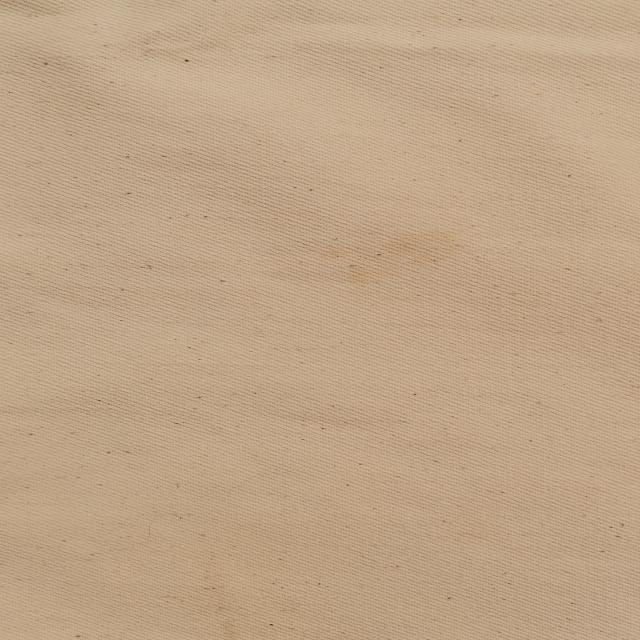taaaches: (306, 228, 456, 287)
